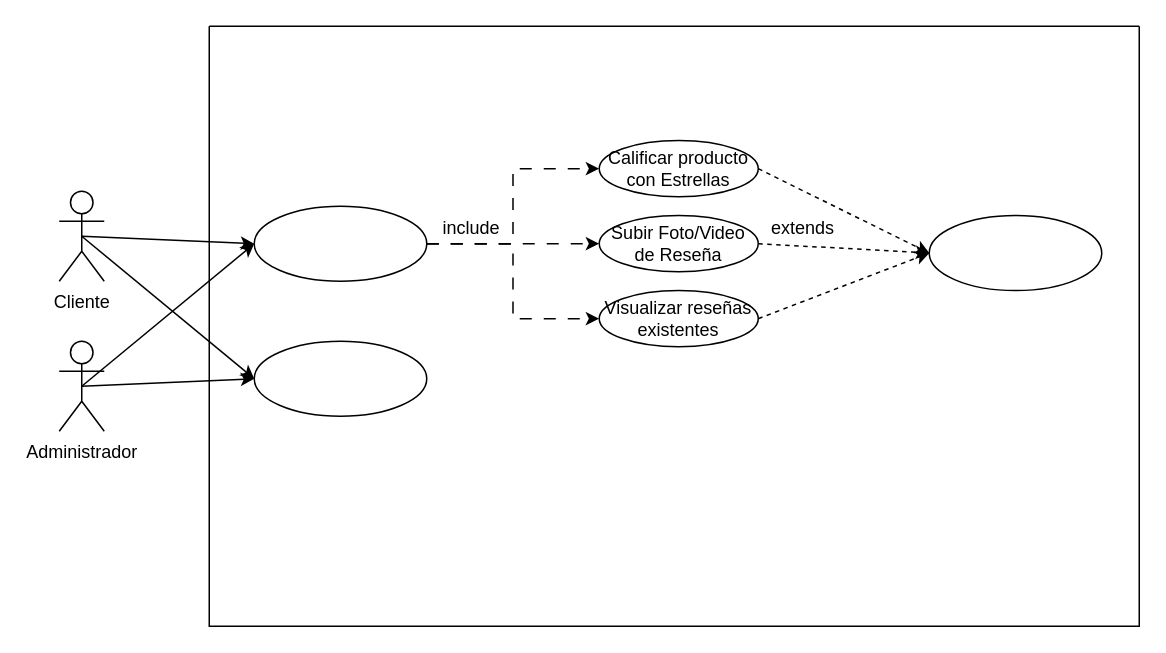
This 1166x653 diagram has some shape labels left out. Each missing label, with the box of its shape:
Crear nueva reseña: (253, 205, 427, 281)
Denunciar Reseña inapropiada: (253, 340, 427, 416)
subir reseña: (928, 214, 1102, 291)
